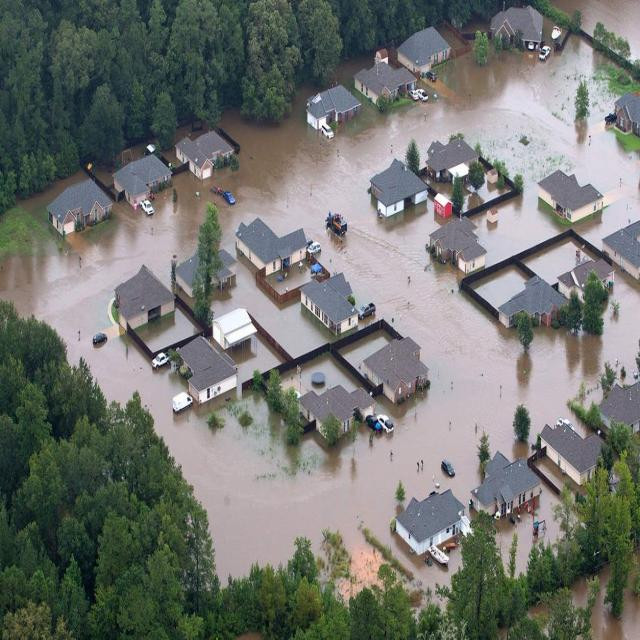flooded_areas: (294, 0, 639, 351), (95, 216, 453, 466), (390, 334, 638, 584), (22, 62, 260, 228)
